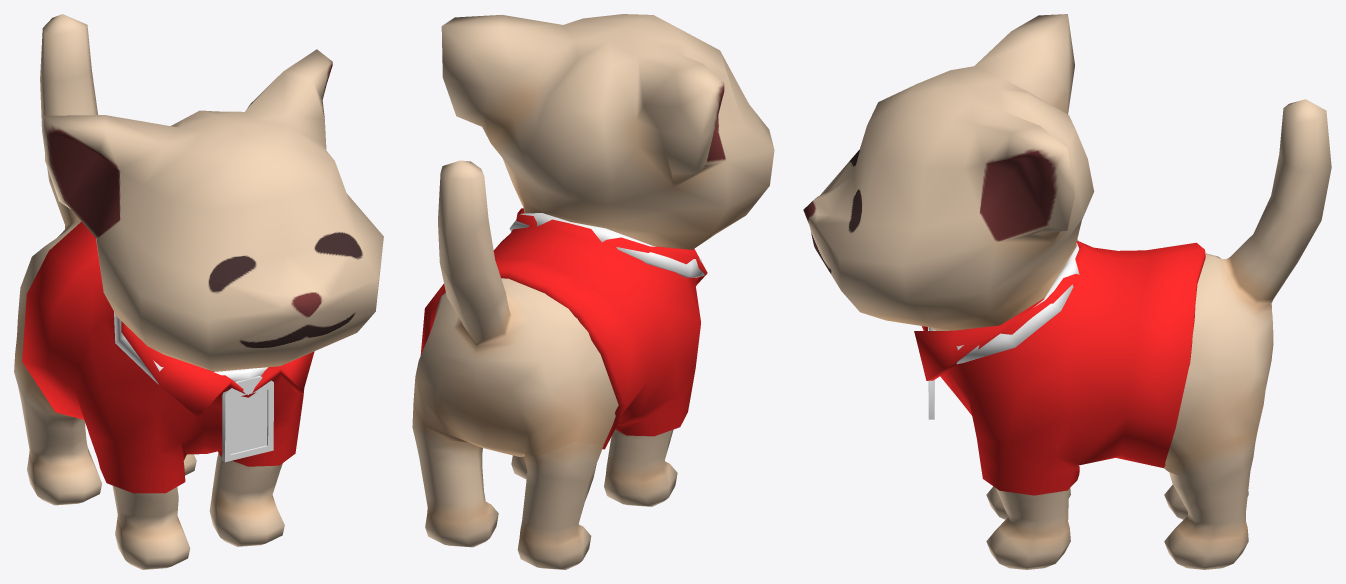
The model's file is LAMBs Cat01.fbx.
The picture shows the model from 3 angles, left to right: view 1: azimuth 30°, elevation 25°; view 2: azimuth 150°, elevation 25°; view 3: azimuth 270°, elevation 25°; orthographic projection. The views are drawn at different scales.
Parts seen in each view (by area): view 1: Cat_Base, LAMBs_Cat_Shirt, LAMBs_Cat_ID; view 2: Cat_Base, LAMBs_Cat_Shirt, LAMBs_Cat_ID; view 3: Cat_Base, LAMBs_Cat_Shirt, LAMBs_Cat_ID.
Part boxes in pixels (<box>): Cat_Base: <box>14,14,383,569</box>; LAMBs_Cat_Shirt: <box>22,221,314,493</box>; LAMBs_Cat_ID: <box>114,312,273,462</box>; Cat_Base: <box>412,14,774,569</box>; LAMBs_Cat_Shirt: <box>420,208,707,449</box>; LAMBs_Cat_ID: <box>509,213,704,277</box>; Cat_Base: <box>803,14,1331,569</box>; LAMBs_Cat_Shirt: <box>914,240,1205,495</box>; LAMBs_Cat_ID: <box>928,239,1079,419</box>.
Bounding box in the file's own units: 1.75 × 2.83 × 2.68.
Materials: 3 (1 with a texture image).
